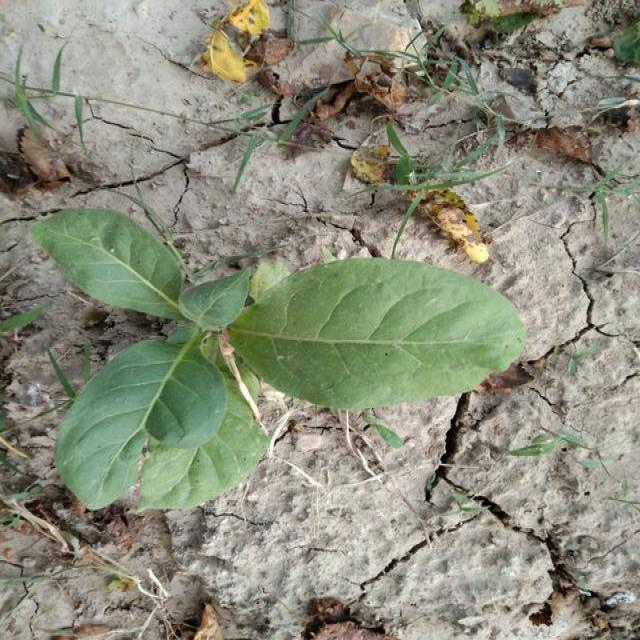crop: (47, 200, 515, 521)
